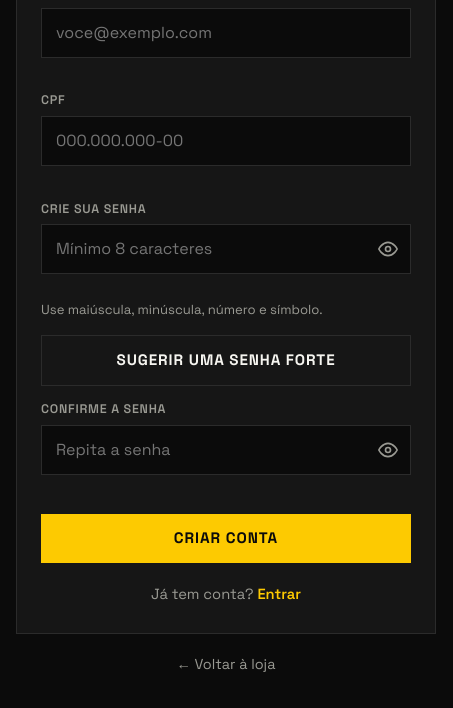
Cadastro › sugere uma senha forte, mostra nas duas caixas e libera o botão de copiar
(page scrolled)
Step 1. Click the button "Sugerir uma senha forte" → (226, 361), box [41,335,411,386]
(page scrolled)
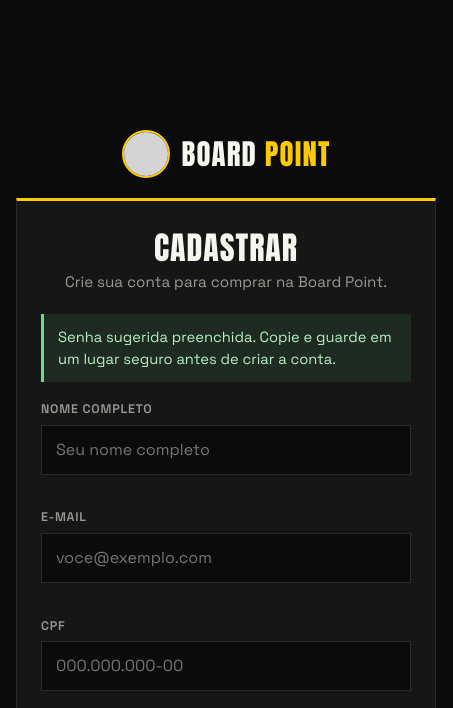
Now the message shows "Senha sugerida preenchida", box [58,328,392,368]
